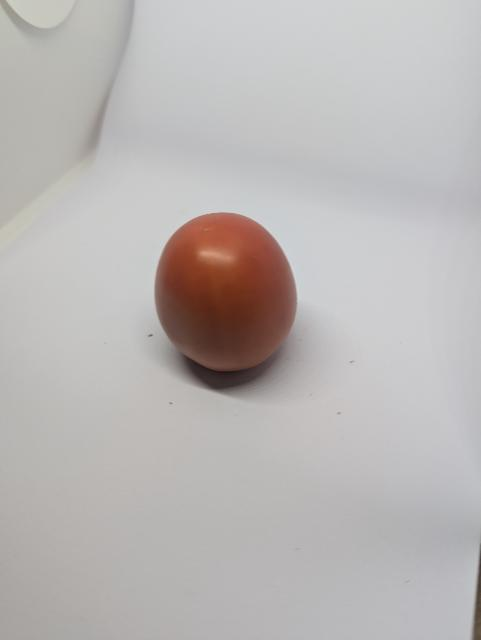red: (151, 208, 303, 377)
